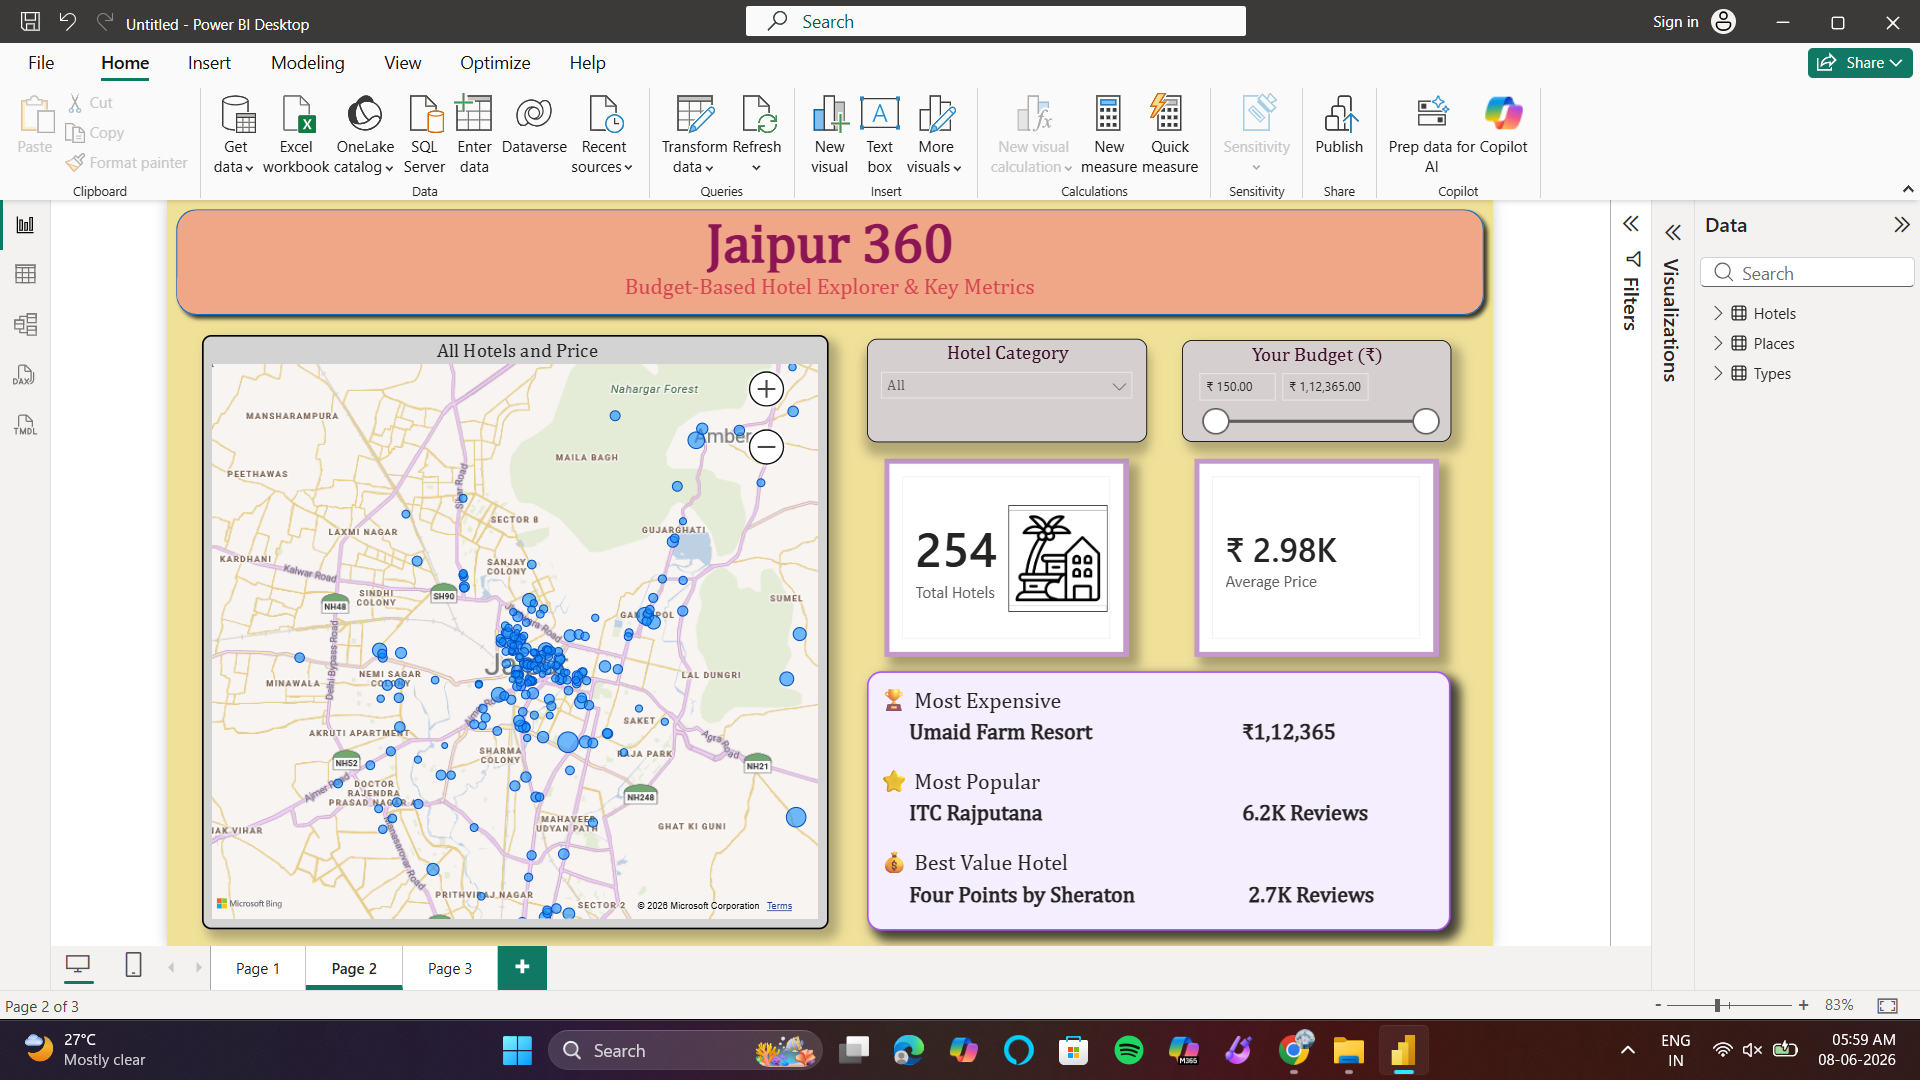

This screenshot's page, from the dashboard's own definition file:
{"tool":"powerbi","page":{"name":"Page 2","canvas":[1280,720],"ordinal":1},"visuals":[{"type":"map","title":"All Hotels and Price","fields":{"X":["Hotels.Lng"],"Y":["Hotels.Lat"],"Size":["Sum(Hotels.PRICE_RUPEES)"]},"box":[34.3,130.4,605.1,573.6],"z":0},{"type":"cardVisual","fields":{"Data":["CountNonNull(Hotels.HOTEL)"]},"box":[692.9,250,235.7,191.4],"z":1000},{"type":"shape","box":[0,0,1280,120],"z":2000},{"type":"shape","box":[10,70,1260,30],"z":3000},{"type":"slicer","title":"Hotel Category","fields":{"Values":["Hotels.Hotel Category"]},"box":[675.7,134.3,270,100],"z":4000},{"type":"slicer","title":"Your Budget (₹)","fields":{"Values":["Hotels.PRICE_RUPEES"]},"box":[980,135.7,260,98.6],"z":5000},{"type":"image","box":[811.4,294.3,95.7,102.9],"z":6000},{"type":"cardVisual","fields":{"Data":["Avg(Hotels.PRICE_RUPEES)"]},"box":[991.4,250,235.7,191.4],"z":7000},{"type":"textbox","box":[675.7,454.3,562.9,250],"z":8000}]}

Visuals, with their boxes on the page's 1280x720 design canvas (x1, y1, x2, y2). These are canvas units, not pixel positions in the 1920x1080 screenshot, which may show the page scaled, cropped or inside an application window:
"All Hotels and Price" map: locate(34, 130, 639, 704)
cardVisual - CountNonNull(Hotels.HOTEL): locate(693, 250, 929, 441)
shape: locate(0, 0, 1280, 120)
shape: locate(10, 70, 1270, 100)
"Hotel Category" slicer: locate(676, 134, 946, 234)
"Your Budget (₹)" slicer: locate(980, 136, 1240, 234)
image: locate(811, 294, 907, 397)
cardVisual - Avg(Hotels.PRICE_RUPEES): locate(991, 250, 1227, 441)
textbox: locate(676, 454, 1239, 704)
